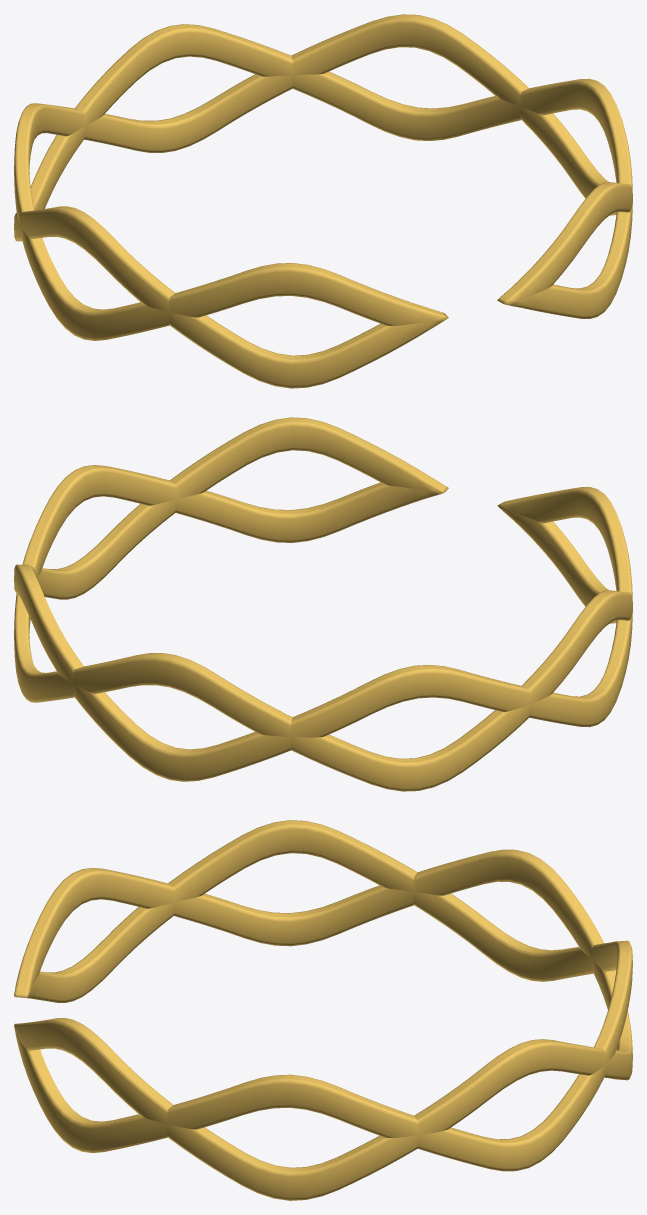
Rendered from 2-gold.fbx.
3 renders of one model, top to bottom at view 1: azimuth 30°, elevation 25°; view 2: azimuth 150°, elevation 25°; view 3: azimuth 270°, elevation 25°, orthographic.
Parts seen in each view (by area): view 1: Cylinder002, Cylinder001; view 2: Cylinder001, Cylinder002; view 3: Cylinder002, Cylinder001.
Boxes of the visible parts, bbox=[...] form: Cylinder002: bbox=[14, 24, 632, 388]; Cylinder001: bbox=[14, 14, 632, 340]; Cylinder001: bbox=[14, 417, 632, 781]; Cylinder002: bbox=[14, 465, 632, 791]; Cylinder002: bbox=[14, 820, 632, 1171]; Cylinder001: bbox=[14, 849, 632, 1200].
Size of the model in its own units: 19.97 by 4.3 by 19.9.
